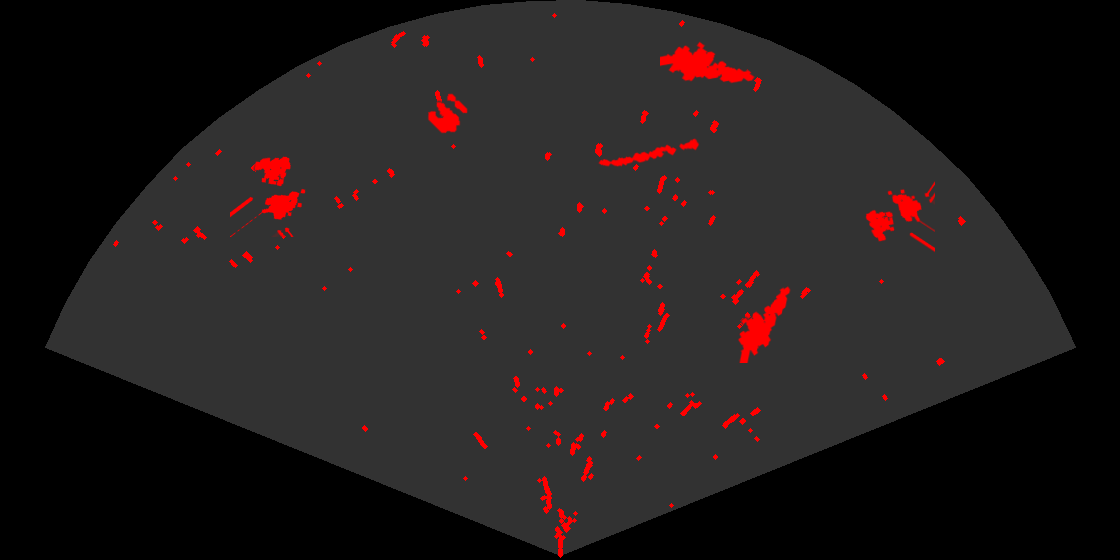ball: (426, 92, 469, 135)
cage: (230, 155, 307, 237), (864, 180, 935, 254)
chain: (597, 137, 701, 168)
frogman: (736, 285, 792, 363), (660, 40, 756, 85)
